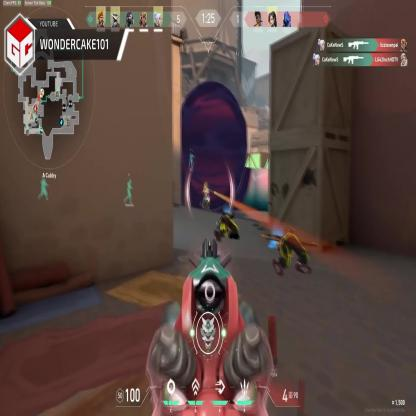enemy: (202, 182, 211, 211)
enemy_head: (204, 182, 208, 189)
